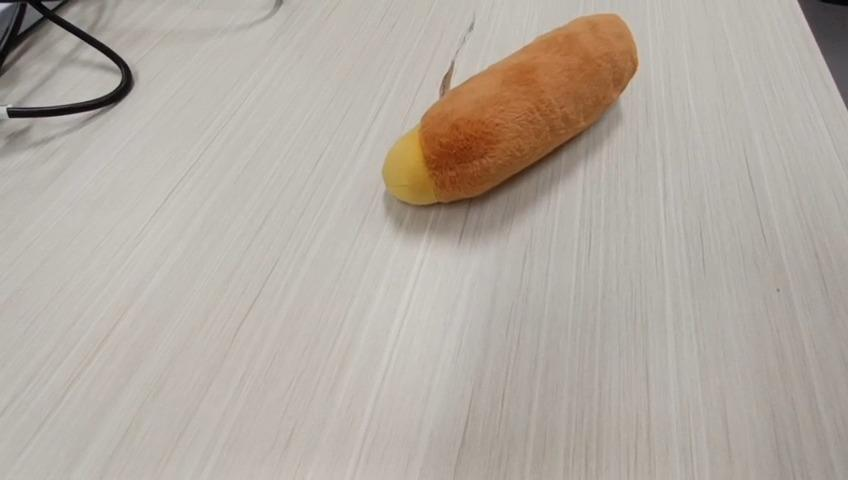hotdog: (381, 12, 639, 206)
